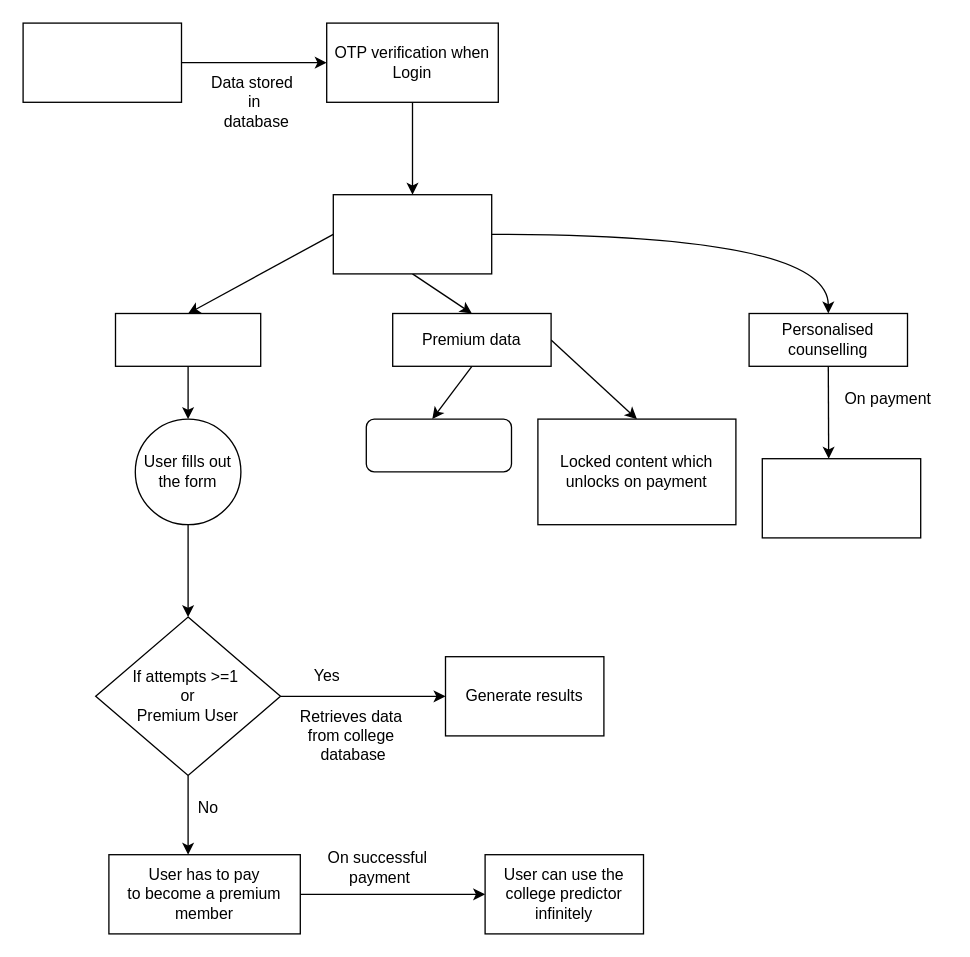
Some shapes in this 970 by 957 pixel diagram are drawn without their labels. The centre of each missing label's shape, as x and y in pixels:
Access to all premium data: pixel 841 497
College Predictor: pixel 187 339
Free content: pixel 438 445
Home Screen: pixel 412 233
Register/Login: pixel 102 62
